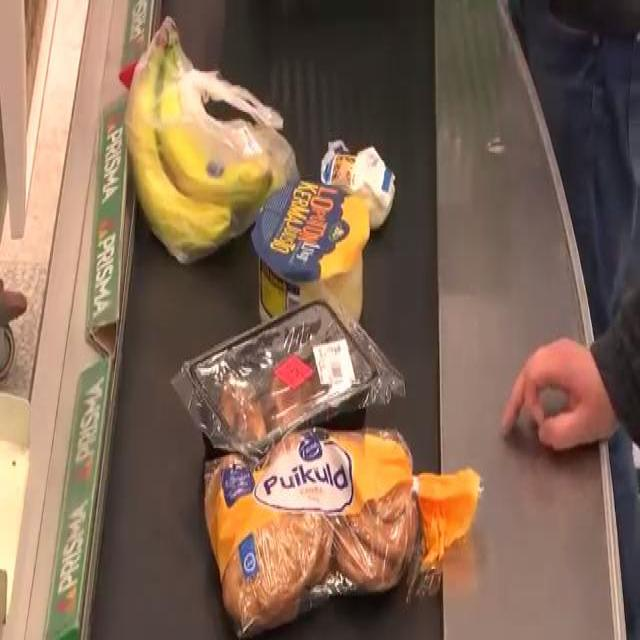food-box: (218, 449, 441, 619), (192, 301, 386, 456), (250, 191, 376, 309), (318, 133, 397, 219)
fruit: (140, 38, 270, 254)
